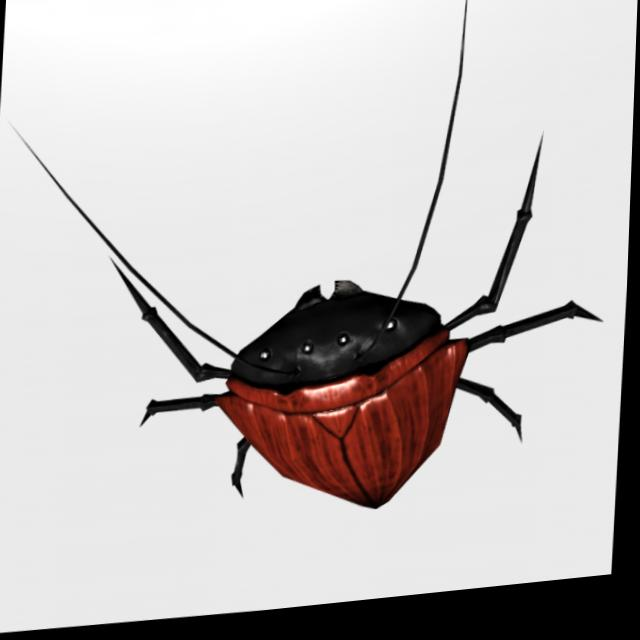Cockroach: (0, 0, 621, 566)
